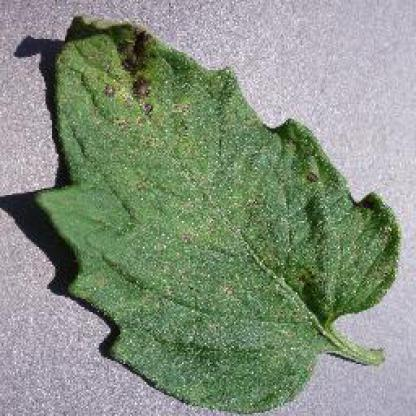bad leaf: (29, 189, 252, 361), (32, 5, 262, 162), (126, 124, 318, 286), (100, 262, 296, 414), (238, 182, 397, 344)
